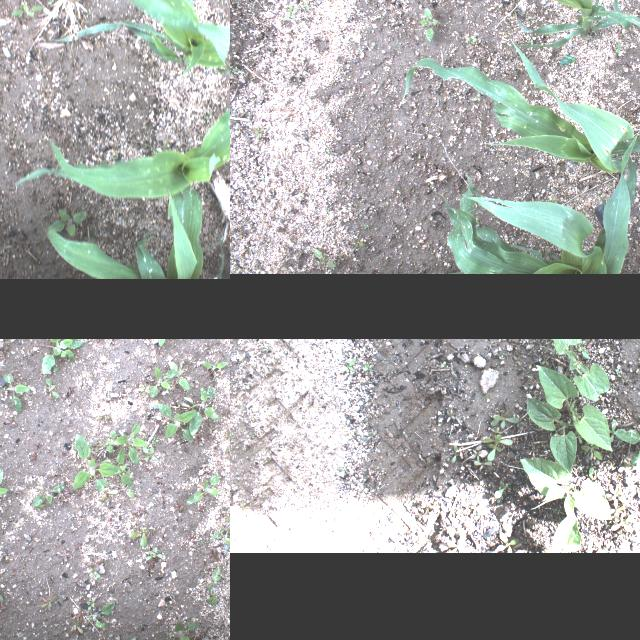crop: (397, 48, 640, 273), (14, 62, 230, 197), (344, 0, 640, 88), (446, 176, 606, 272), (46, 184, 204, 278), (51, 0, 230, 78), (536, 364, 614, 452), (520, 458, 612, 520), (546, 339, 610, 401), (527, 397, 577, 473), (170, 0, 230, 45), (553, 513, 583, 551), (216, 235, 224, 278)
weed: (71, 434, 123, 494), (104, 420, 150, 466), (186, 383, 224, 435), (158, 402, 198, 444), (182, 469, 224, 506), (614, 406, 640, 462), (1, 372, 34, 414), (41, 339, 79, 375), (415, 4, 445, 42), (208, 498, 230, 549), (146, 364, 178, 398), (48, 210, 88, 237), (114, 447, 134, 497), (32, 483, 68, 507), (166, 360, 192, 392), (85, 602, 114, 630), (204, 567, 222, 609), (308, 246, 338, 270), (162, 620, 198, 640), (602, 419, 628, 443), (490, 408, 518, 428), (11, 1, 45, 17), (496, 530, 520, 552), (605, 496, 625, 522), (610, 514, 634, 534), (129, 526, 149, 548), (580, 440, 602, 460), (140, 444, 162, 461), (487, 434, 501, 460), (608, 483, 626, 503), (618, 458, 638, 476), (44, 377, 60, 398), (0, 468, 8, 510), (282, 4, 302, 20), (354, 228, 366, 252), (556, 54, 580, 66), (570, 428, 588, 444), (462, 33, 482, 47), (251, 122, 265, 142), (202, 360, 228, 370), (338, 358, 356, 372), (450, 442, 462, 463), (482, 437, 512, 445), (40, 596, 56, 610), (494, 483, 508, 499), (230, 63, 249, 74), (504, 542, 524, 552), (585, 466, 595, 486), (364, 429, 378, 443), (156, 339, 182, 346), (146, 549, 164, 559), (474, 460, 492, 470), (612, 41, 624, 55), (364, 40, 378, 52), (491, 426, 503, 440), (301, 0, 313, 12), (471, 448, 483, 460), (86, 597, 96, 611), (542, 342, 556, 352), (72, 624, 84, 634), (339, 466, 351, 476), (420, 503, 432, 513), (446, 410, 456, 422), (578, 346, 588, 358), (470, 503, 480, 515), (616, 372, 628, 382), (454, 347, 464, 358), (90, 568, 100, 578), (262, 343, 272, 353), (541, 355, 551, 365), (515, 416, 525, 426), (422, 498, 434, 506), (512, 354, 520, 366), (256, 339, 266, 347), (496, 493, 504, 502), (552, 508, 564, 514), (205, 110, 212, 120), (364, 364, 374, 371), (110, 152, 118, 160), (634, 98, 640, 107), (402, 430, 408, 438), (498, 480, 502, 490), (440, 361, 446, 367), (496, 410, 502, 416), (416, 480, 420, 488), (129, 637, 139, 640), (500, 354, 504, 360), (616, 368, 620, 374), (49, 0, 54, 4), (443, 411, 445, 415)
